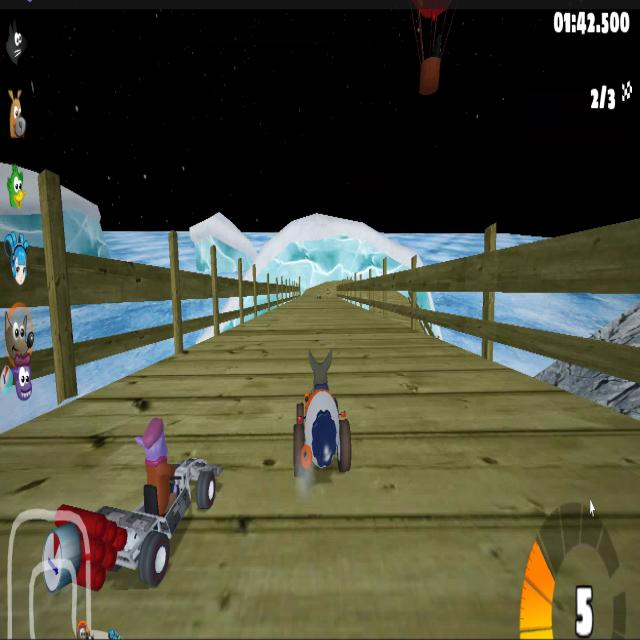enemy_kart: (67, 409, 235, 600)
player_kart: (288, 346, 358, 492)
track: (238, 490, 640, 640), (363, 367, 638, 516), (150, 352, 286, 414), (344, 294, 472, 358), (302, 282, 343, 331), (242, 319, 284, 356), (279, 304, 306, 342)
